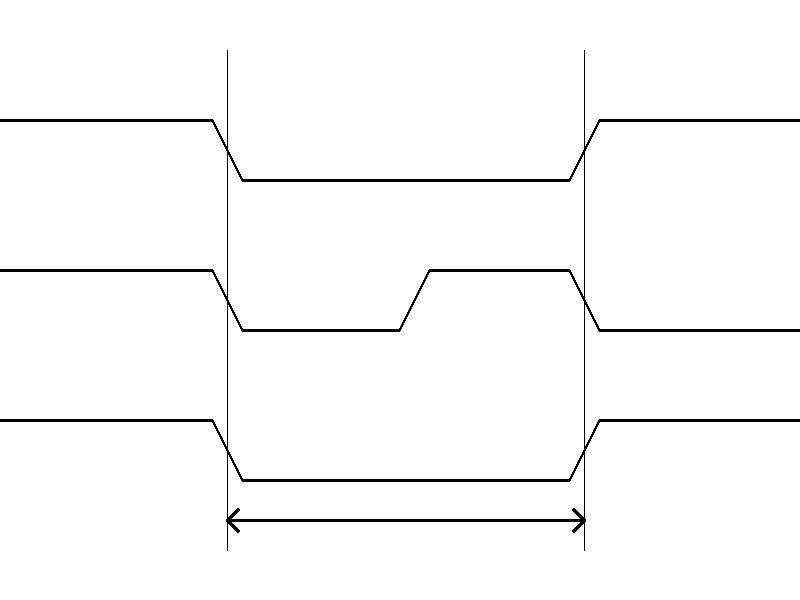double_arrow: (227, 505, 584, 535)
